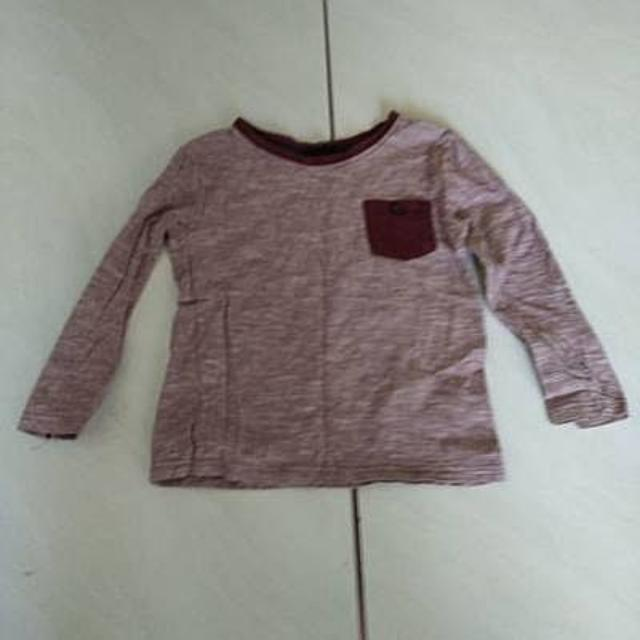SHIRT: (27, 113, 626, 490)
